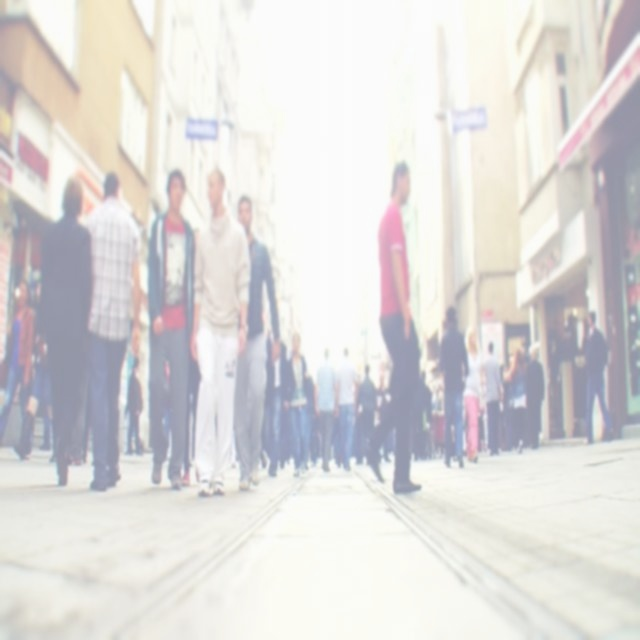pessoa: (74, 169, 142, 488), (359, 158, 423, 496), (190, 166, 252, 502), (31, 172, 94, 484), (145, 167, 196, 492), (232, 194, 282, 493), (11, 280, 53, 463), (0, 274, 33, 458), (438, 304, 470, 468), (260, 316, 290, 476), (580, 309, 612, 444), (180, 321, 205, 488), (286, 333, 310, 478), (314, 342, 340, 474), (458, 329, 482, 464), (412, 373, 445, 463), (334, 346, 356, 474), (482, 340, 504, 456), (569, 318, 590, 438), (507, 346, 529, 454), (524, 346, 546, 450), (371, 370, 393, 462), (317, 424, 370, 459), (126, 354, 144, 456), (356, 362, 377, 444), (122, 361, 138, 456), (547, 338, 562, 429), (302, 362, 314, 469), (418, 370, 432, 460), (161, 358, 173, 462), (282, 350, 292, 470), (188, 388, 198, 466), (475, 400, 487, 455), (546, 320, 562, 355), (499, 364, 511, 384), (521, 345, 531, 368), (353, 369, 361, 396), (260, 448, 268, 471)
